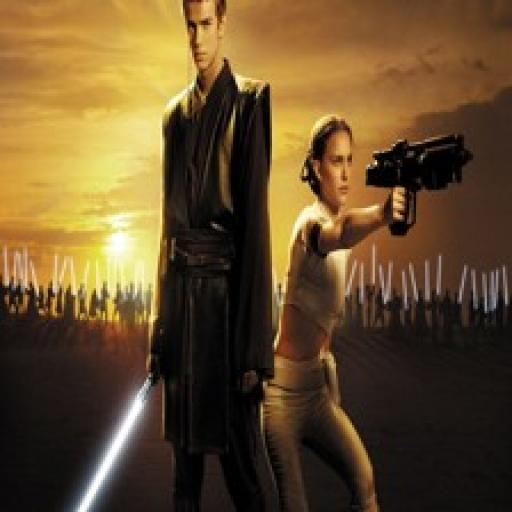lightsaber: (69, 366, 159, 512)
